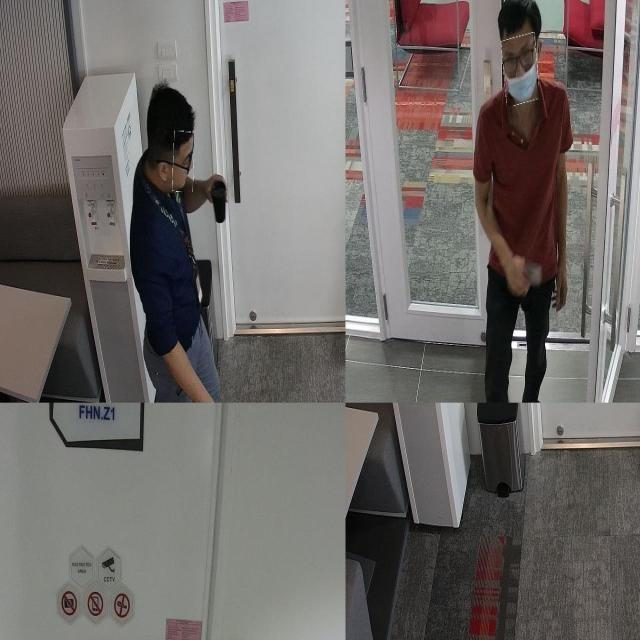hairnet: (502, 35, 538, 105)
